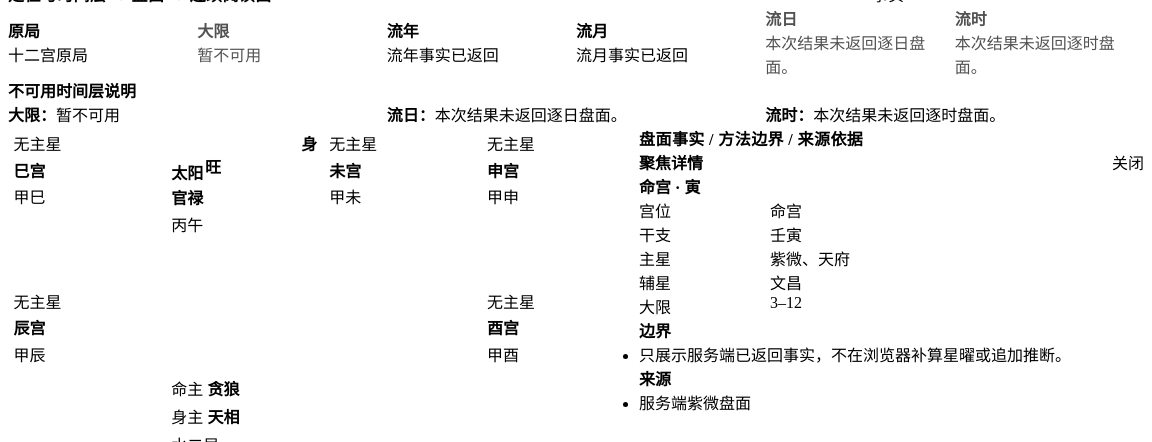
Test case: 紫微 S3 十二宫环盘 › projects ready year and granted month palace facts into the same grid, then restores natal facts
Click the button "午".
click(245, 204)  # box [166, 126, 324, 283]
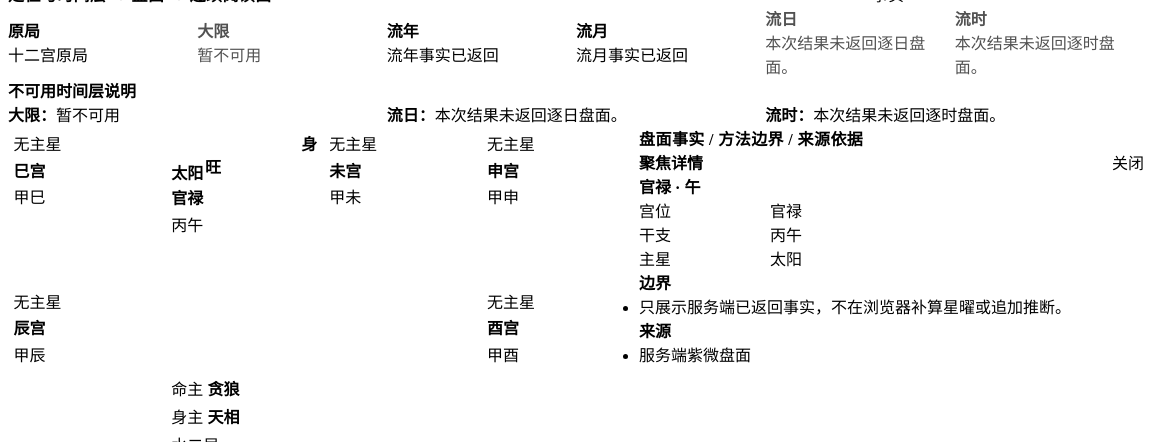
Click the button "流年".
click(481, 42)  # box [387, 6, 576, 78]
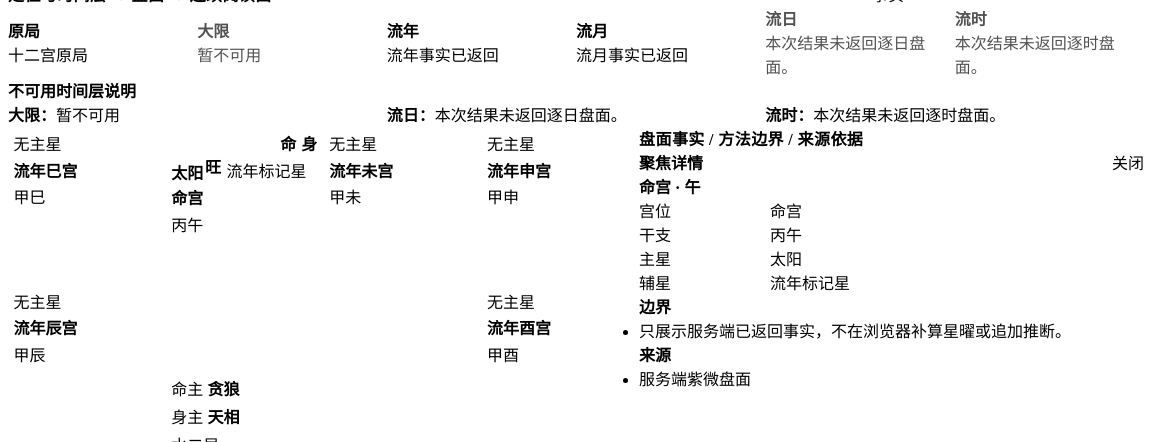
Expected: the text "流月标记星" is not shown
Now the 1st text "流年标记星" is shown, box [227, 158, 307, 183]
Click the button "流月".
click(671, 42)  # box [576, 6, 765, 78]
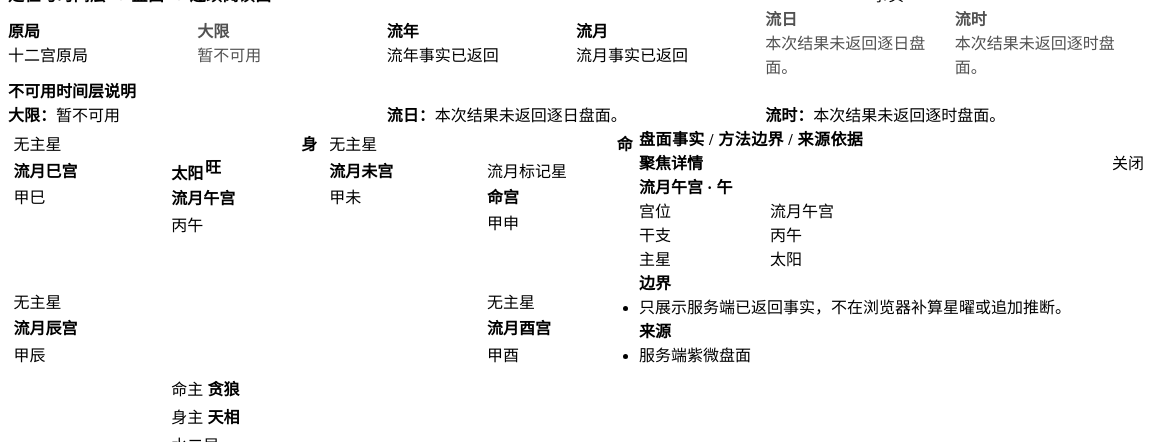
Now the text "流月标记星" is shown, box [487, 158, 567, 182]
Now the text "流年标记星" is gone
Click the button "原局 十二宫原局".
click(103, 42)  # box [8, 6, 197, 78]
(page scrolled)
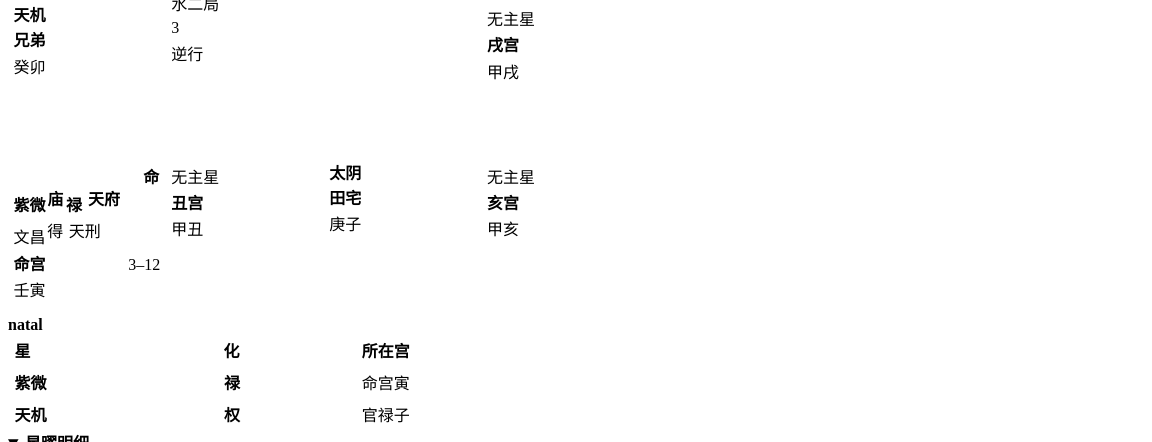
Expected: the text "流年标记星" is not shown
Now the text "流月标记星" is gone
